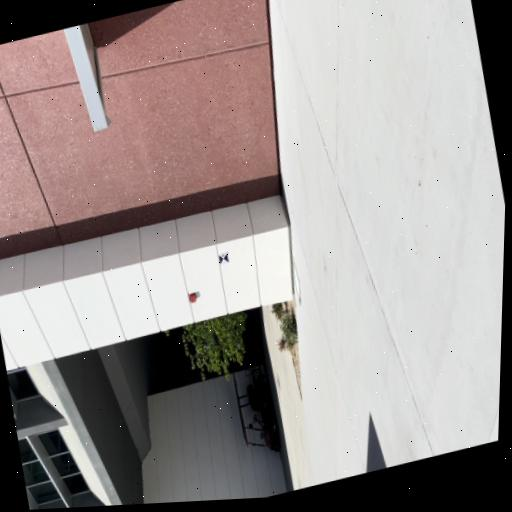target9: (219, 253, 229, 265)
